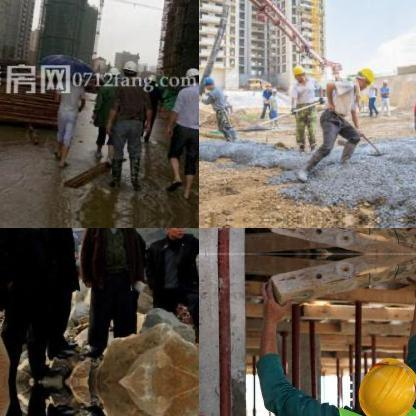Helmet: (354, 358, 415, 415), (352, 62, 376, 90), (120, 56, 138, 80), (183, 64, 198, 88), (289, 62, 307, 80), (161, 228, 188, 239), (106, 62, 118, 82), (202, 72, 214, 90), (145, 71, 157, 87)
